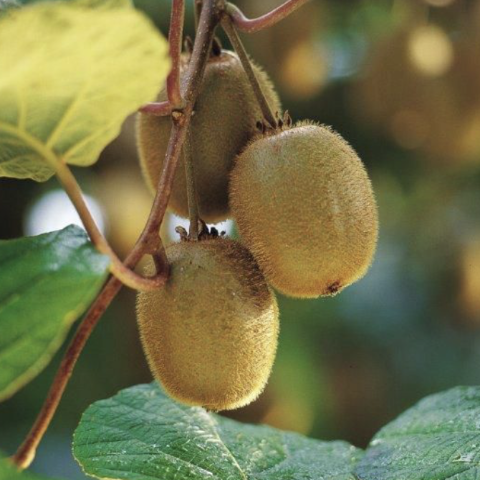kiwi: (124, 219, 302, 414), (137, 42, 295, 237), (224, 117, 390, 300)
